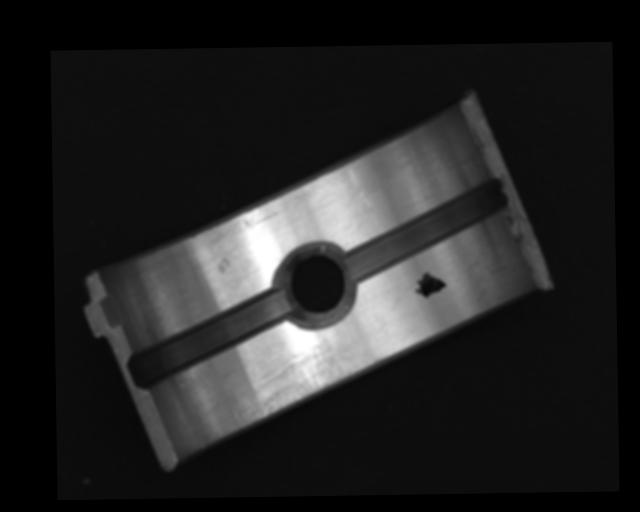blot: (413, 270, 447, 299)
bruise: (216, 255, 233, 274)
gap: (345, 179, 508, 281), (128, 292, 290, 388)
hole: (278, 243, 352, 329)
nick: (348, 167, 379, 218)
scratch: (235, 338, 370, 428)
